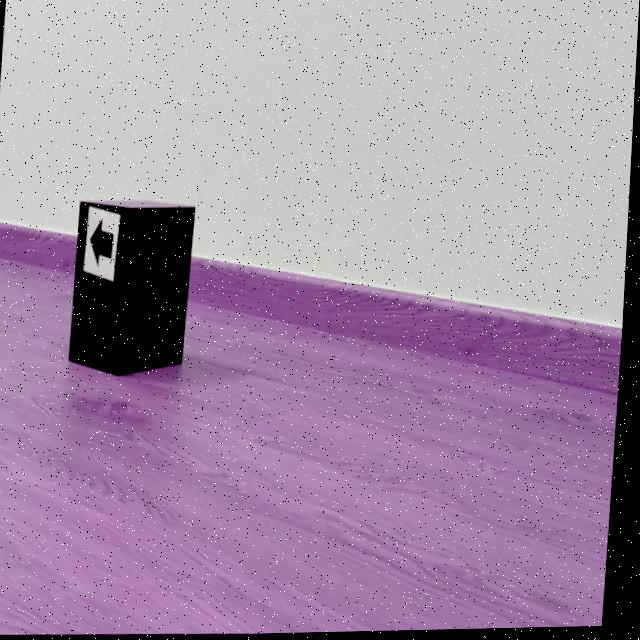LEFT: (91, 219, 117, 266)
